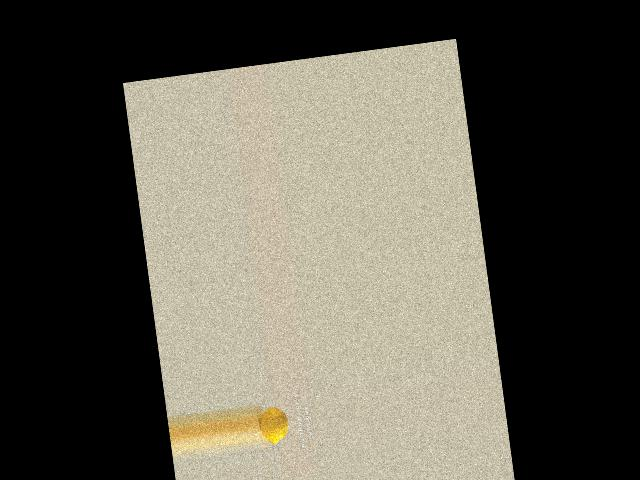lemon: (259, 404, 292, 445)
